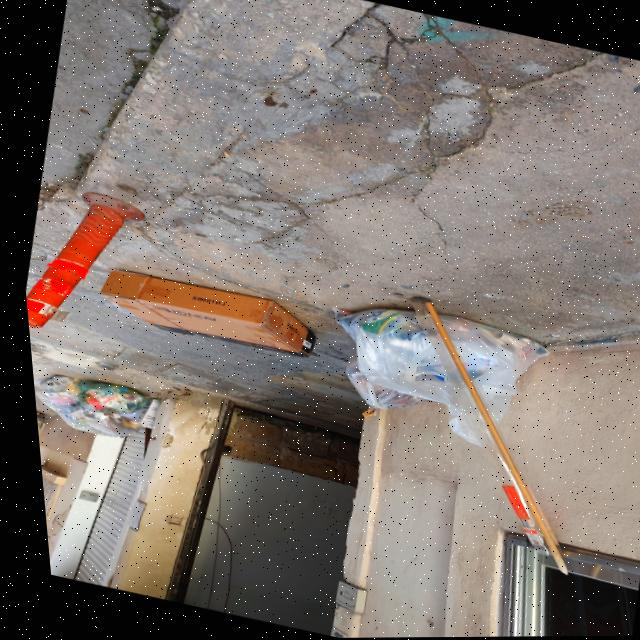Organic Waste -White Bag-: (338, 292, 549, 423), (333, 361, 427, 418), (45, 402, 148, 446), (27, 369, 79, 410), (29, 403, 41, 439)
Other: (90, 263, 323, 368)
Recycled Waste -Grey or Green Bag-: (65, 376, 144, 423)
